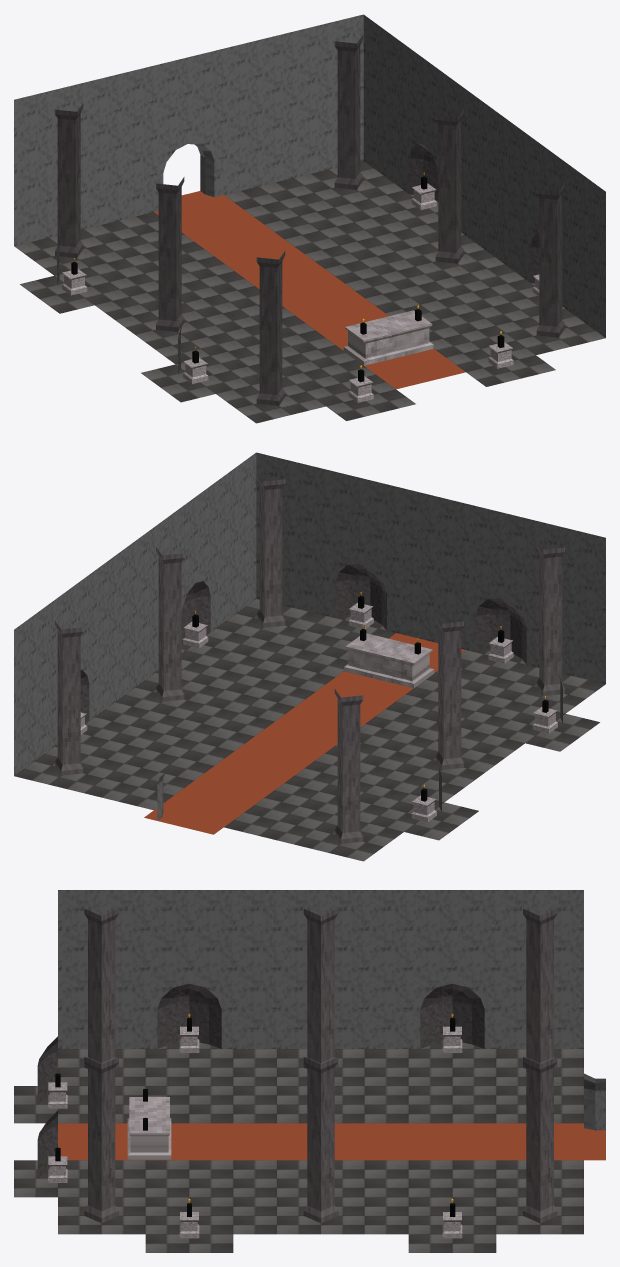
The model's file is Room19.glb.
3 views of the same model, one above another, from view 1: azimuth 30°, elevation 25°; view 2: azimuth 150°, elevation 25°; view 3: azimuth 270°, elevation 25° (orthographic). The views are drawn at different scales.
Parts seen in each view (by area): view 1: Walls.020, StoneFloors.001, Columns.003, CarpetFloor.001, Altar.001, Pedestals.001, Alcoves, Candles.001; view 2: Walls.020, StoneFloors.001, Columns.003, CarpetFloor.001, Alcoves, Altar.001, Pedestals.001, Candles.001; view 3: StoneFloors.001, Walls.020, Columns.003, CarpetFloor.001, Alcoves, Pedestals.001, Altar.001, Candles.001.
Part boxes in pixels (box(x1,y1,x2,y2)): Walls.020: box(14, 14, 605, 337); StoneFloors.001: box(14, 161, 605, 423); Columns.003: box(55, 34, 564, 405); CarpetFloor.001: box(154, 191, 465, 389); Altar.001: box(343, 310, 433, 365); Pedestals.001: box(62, 183, 539, 402); Alcoves: box(57, 143, 539, 374); Candles.001: box(71, 176, 504, 382); Walls.020: box(14, 452, 605, 820); StoneFloors.001: box(14, 599, 605, 861); Columns.003: box(55, 472, 564, 843); CarpetFloor.001: box(144, 633, 465, 834); Alcoves: box(80, 564, 562, 812); Altar.001: box(344, 633, 434, 688); Pedestals.001: box(80, 602, 557, 822); Candles.001: box(192, 595, 548, 801); StoneFloors.001: box(14, 1042, 583, 1252); Walls.020: box(58, 890, 605, 1130); Columns.003: box(84, 908, 557, 1223); CarpetFloor.001: box(58, 1123, 605, 1160); Alcoves: box(37, 983, 484, 1178); Pedestals.001: box(48, 1026, 462, 1238); Altar.001: box(127, 1097, 171, 1159); Candles.001: box(55, 1018, 455, 1216).
Bounding box in the file's own units: 120 × 40.05 × 135.
8 materials, 6 textured.
